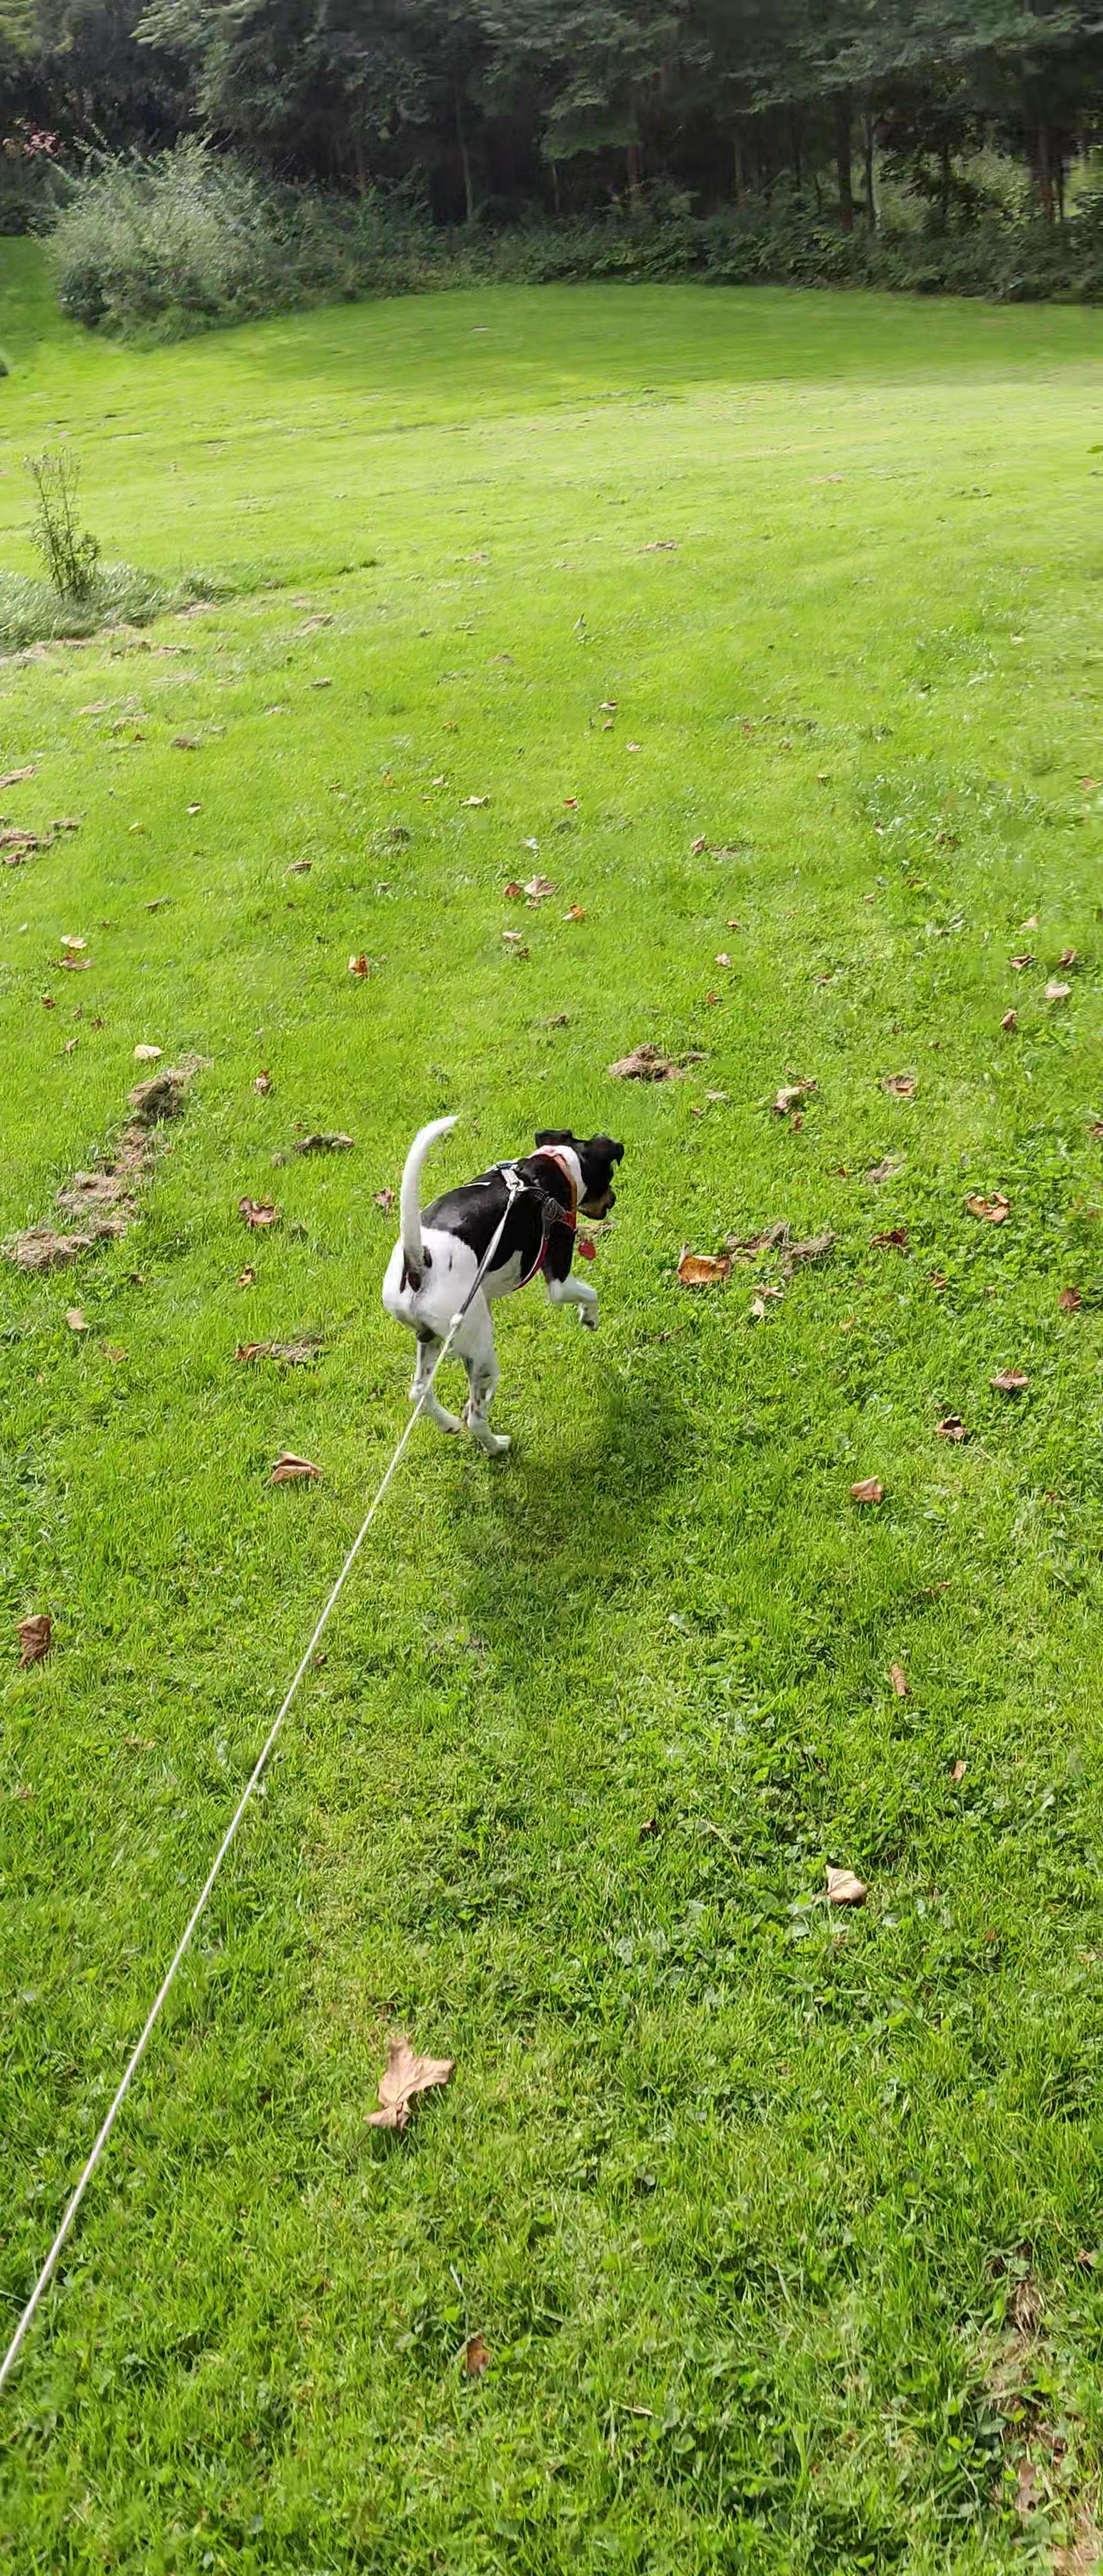Dog: (368, 1097, 633, 1464)
